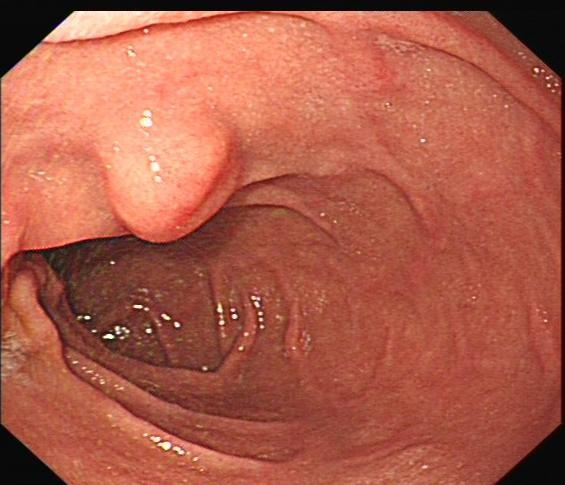Polyp: (87, 126, 246, 254)
